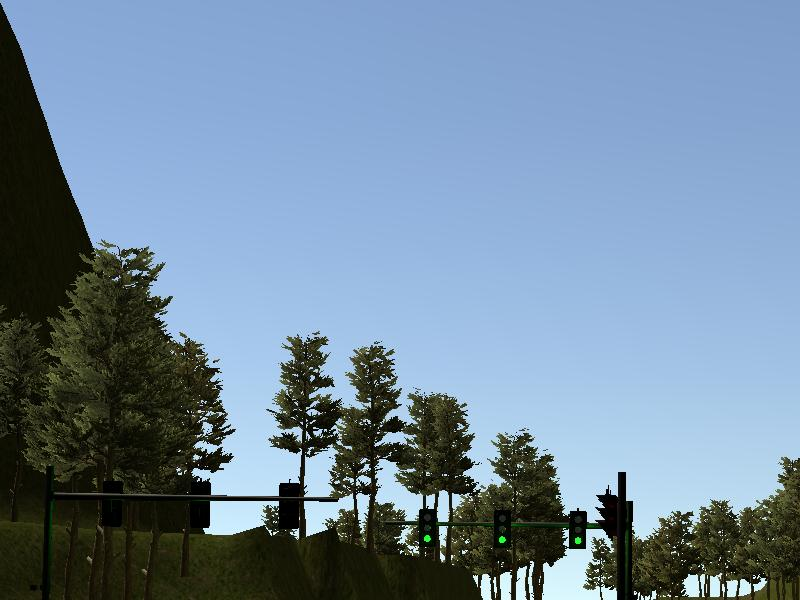Green: (419, 509, 435, 546), (495, 509, 511, 546), (568, 512, 584, 549)
